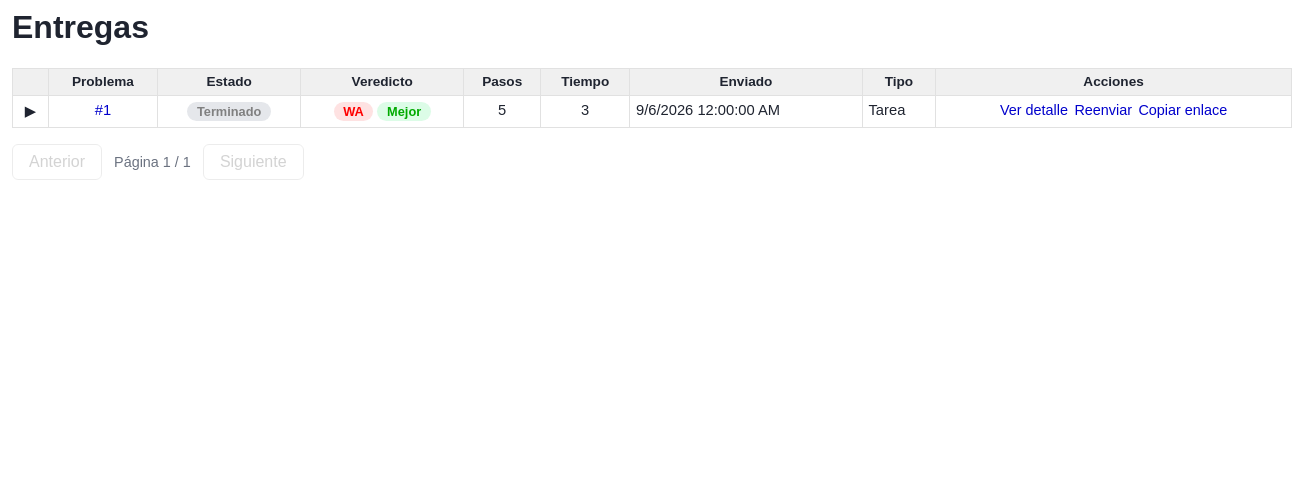
Test: Codeforces-style inline expansion › renders '(oculto)' for hidden cases (MUST NOT show expected_output)
Check: the link "#1" is shown, box [95,102,111,118]
Click the text "#1" at (652, 112), box [12,95,1291,128]
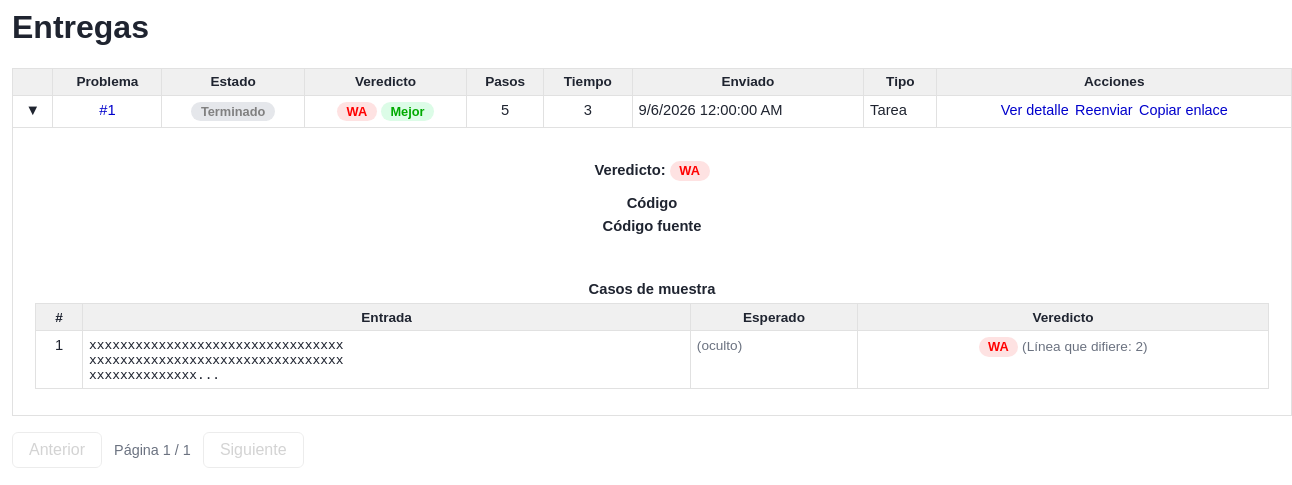
Check: the text "(oculto)" is shown, box [697,338,742,353]
